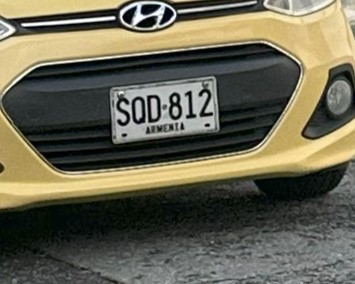number plate: (0, 0, 354, 209), (110, 76, 219, 143)
